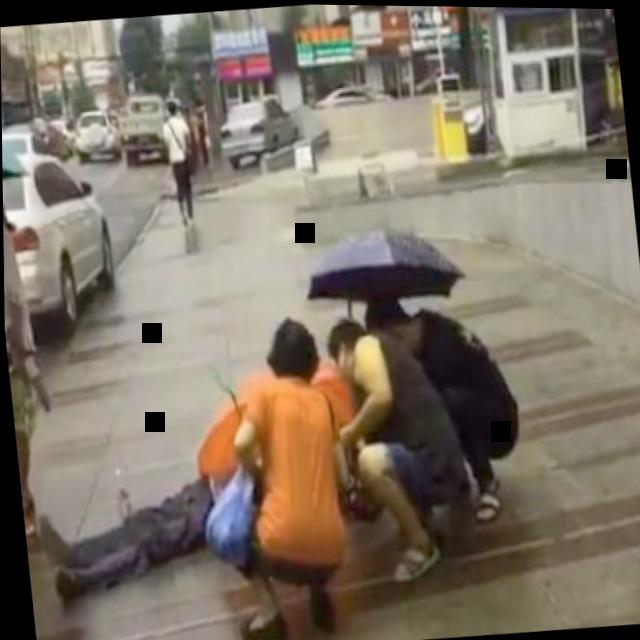Fall-Detected: (33, 427, 278, 611)
